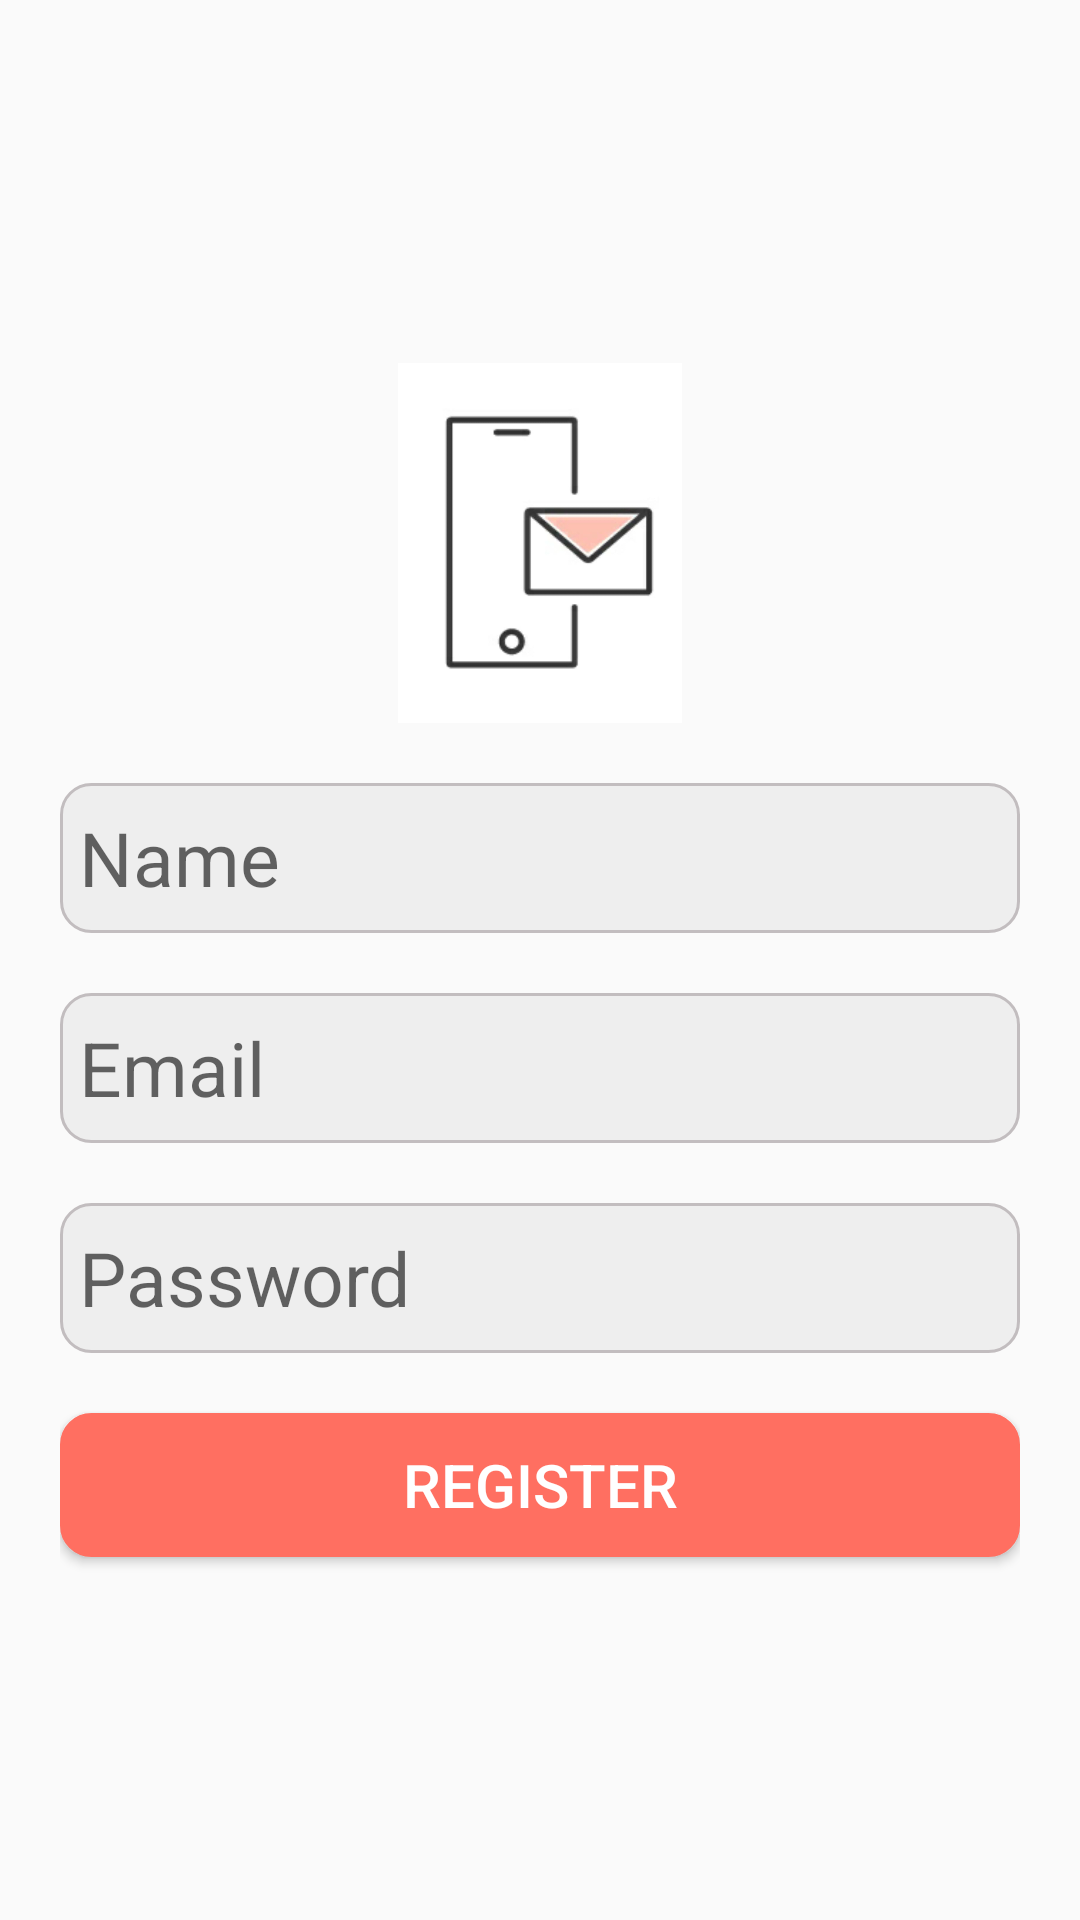

Icon click points for this 1080 x 1920 phone screenshot, format [x,y]:
email: [549,542]
